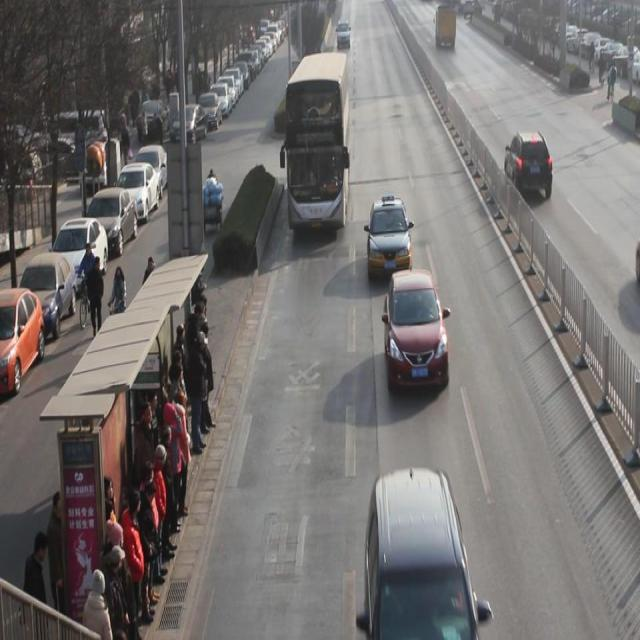car: (362, 473, 478, 640), (385, 271, 449, 394), (367, 201, 412, 281), (504, 134, 553, 204)
van: (284, 54, 347, 230)
